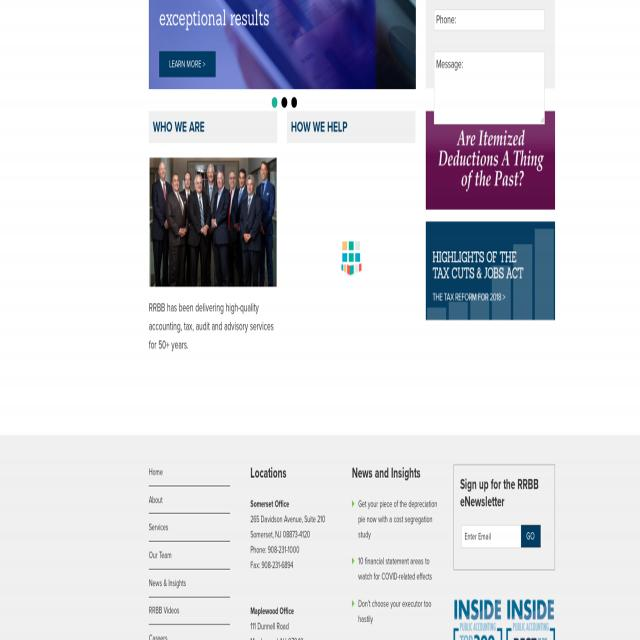button: (148, 0, 416, 110), (148, 0, 416, 109), (150, 158, 276, 287), (426, 110, 555, 210), (426, 222, 555, 321), (521, 525, 541, 547)
field: (434, 53, 544, 123), (434, 9, 545, 31), (461, 525, 521, 549)
